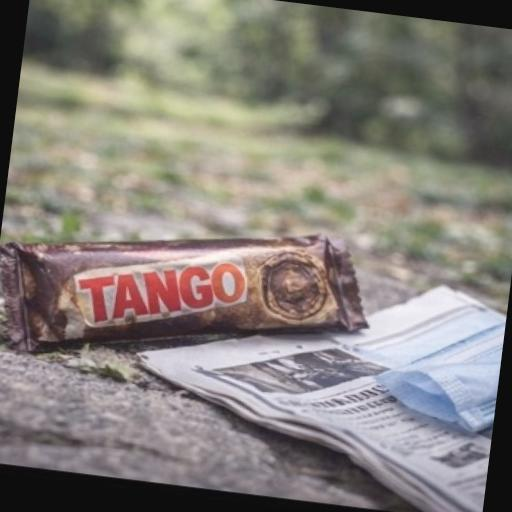tango: (0, 176, 444, 424)
